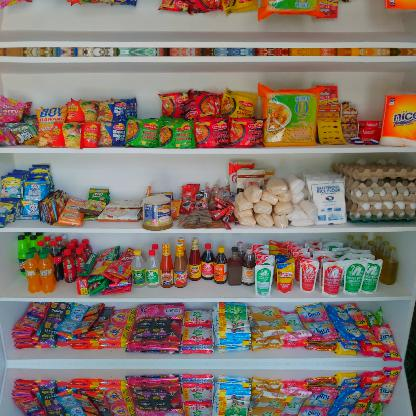Lady-s-Choice: (142, 195, 172, 230)
